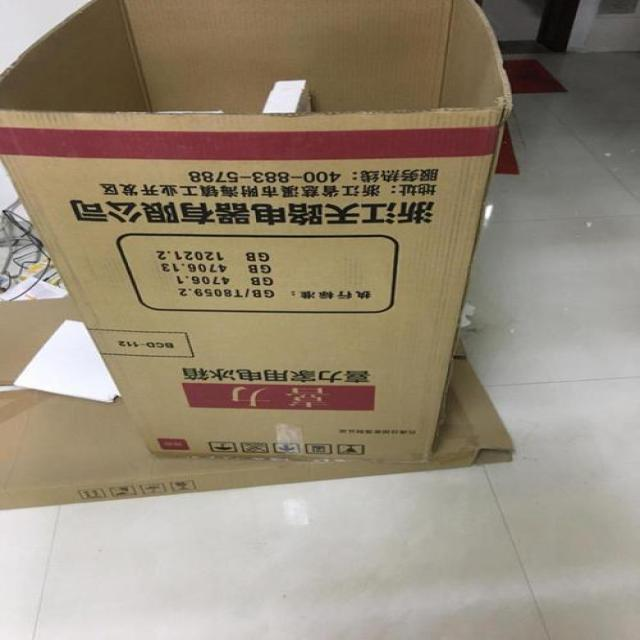cardboard: (0, 0, 520, 506)
